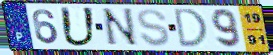6: (31, 8, 61, 45)
9: (209, 8, 243, 49)
D: (173, 7, 209, 49)
N: (101, 7, 141, 48)
S: (136, 8, 172, 48)
U: (58, 5, 98, 48)
